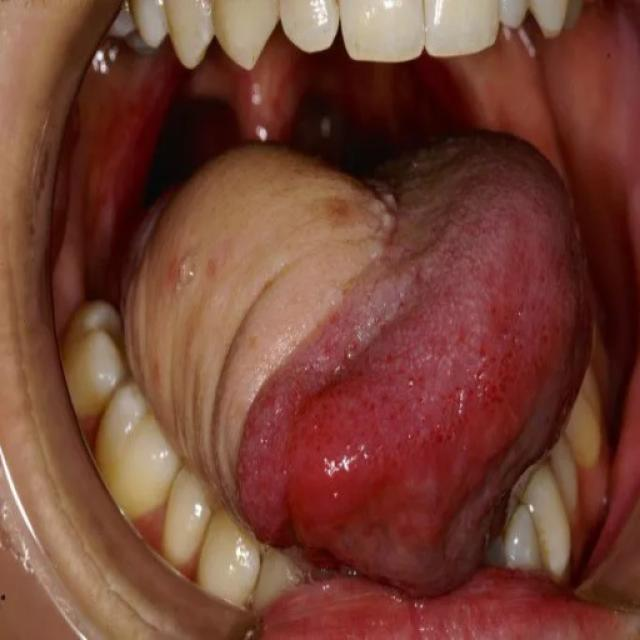cancer-detection: (115, 145, 402, 508)
processing_area: (53, 45, 639, 638)
